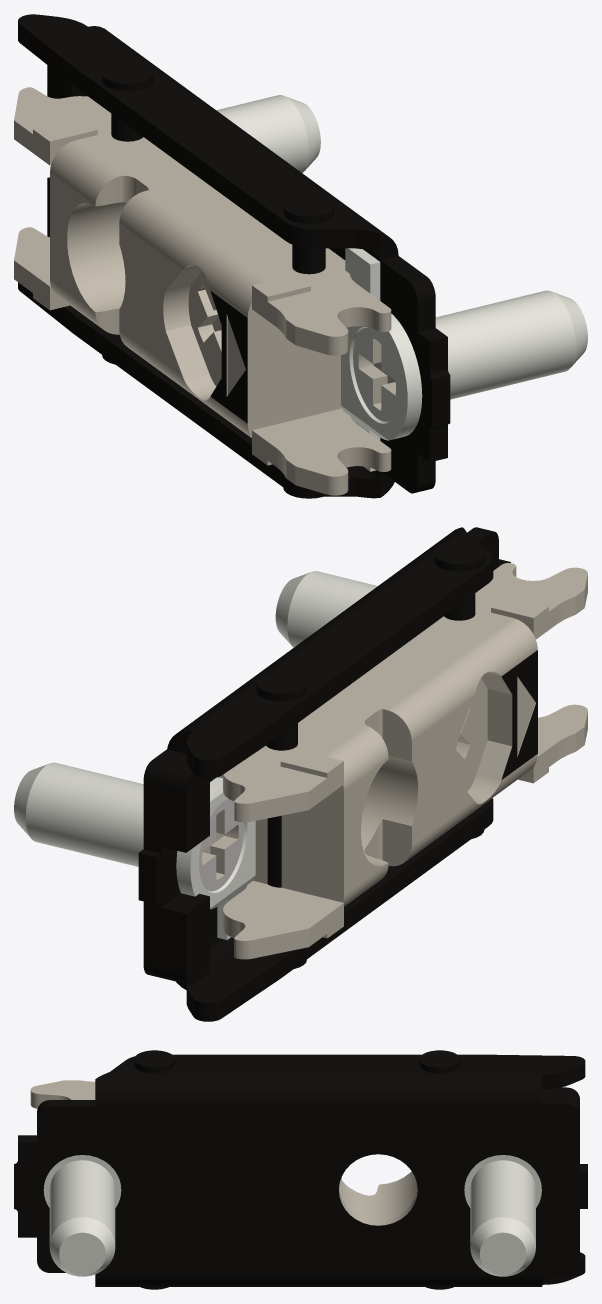
3 renders of one model, top to bottom at view 1: azimuth 30°, elevation 25°; view 2: azimuth 150°, elevation 25°; view 3: azimuth 270°, elevation 25°, orthographic. The views are drawn at different scales.
Parts seen in each view (by area): view 1: bau0025466148; view 2: bau0025466148; view 3: bau0025466148.
Boxes of the visible parts, x1,y1,x2,y2 form: bau0025466148: (14, 14, 587, 498); bau0025466148: (14, 527, 587, 1021); bau0025466148: (14, 1050, 587, 1289).
Bounding box in the file's own units: 20 × 18.65 × 43.67.
